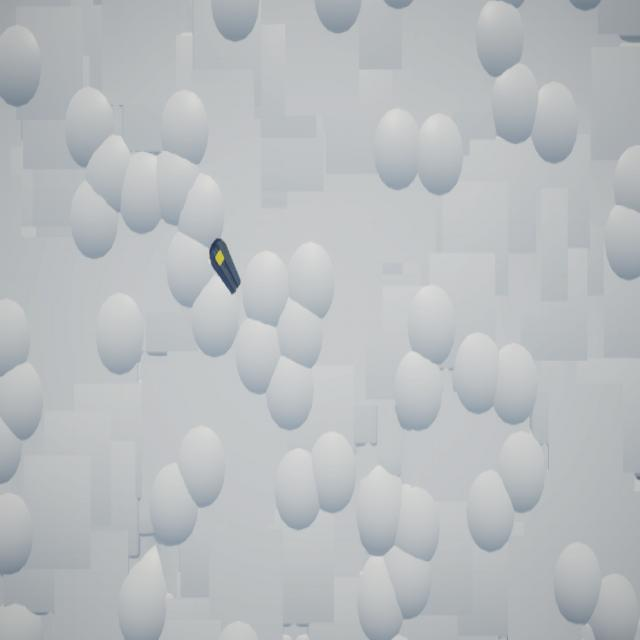handle_folk: (210, 239, 242, 297)
